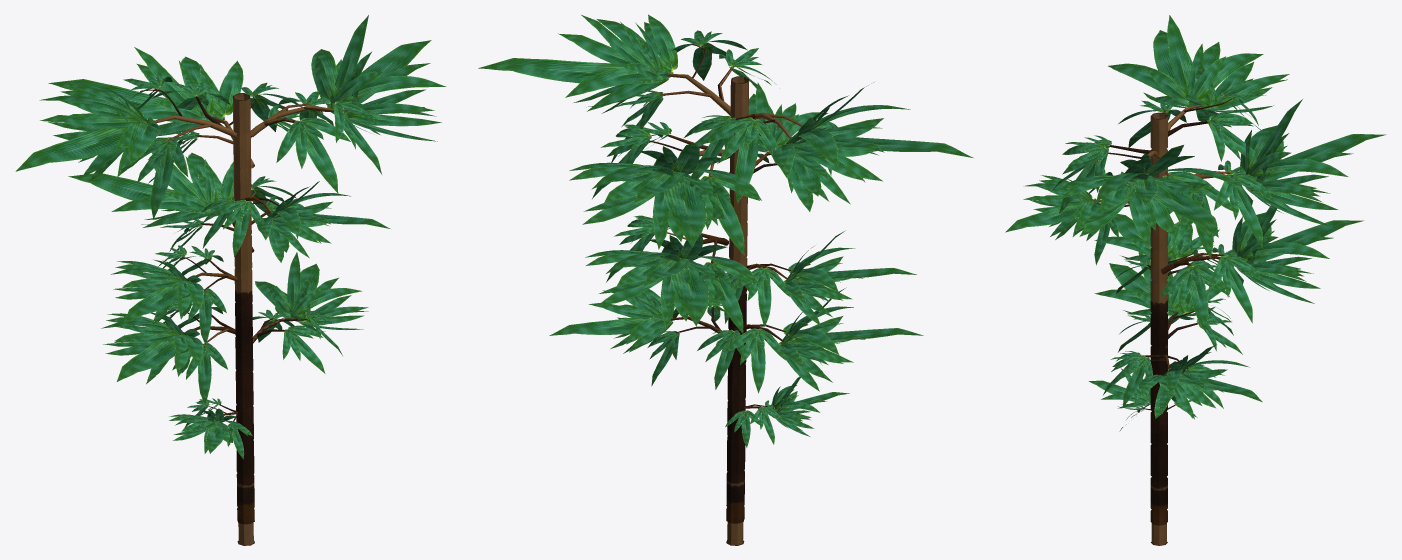
File: Bamboo.fbx
The picture shows the model from 3 angles, left to right: view 1: azimuth 30°, elevation 25°; view 2: azimuth 150°, elevation 25°; view 3: azimuth 270°, elevation 25°; orthographic projection. The views are drawn at different scales.
Visible parts, largest first — view 1: _Bamboo3_pasted__polySurface526; view 2: _Bamboo3_pasted__polySurface526; view 3: _Bamboo3_pasted__polySurface526.
Boxes of the visible parts, x1,y1,x2,y2 form: _Bamboo3_pasted__polySurface526: [15, 15, 446, 545]; _Bamboo3_pasted__polySurface526: [478, 14, 973, 545]; _Bamboo3_pasted__polySurface526: [1005, 15, 1386, 545].
Size of the model in its own units: 128 by 132 by 99.21.
